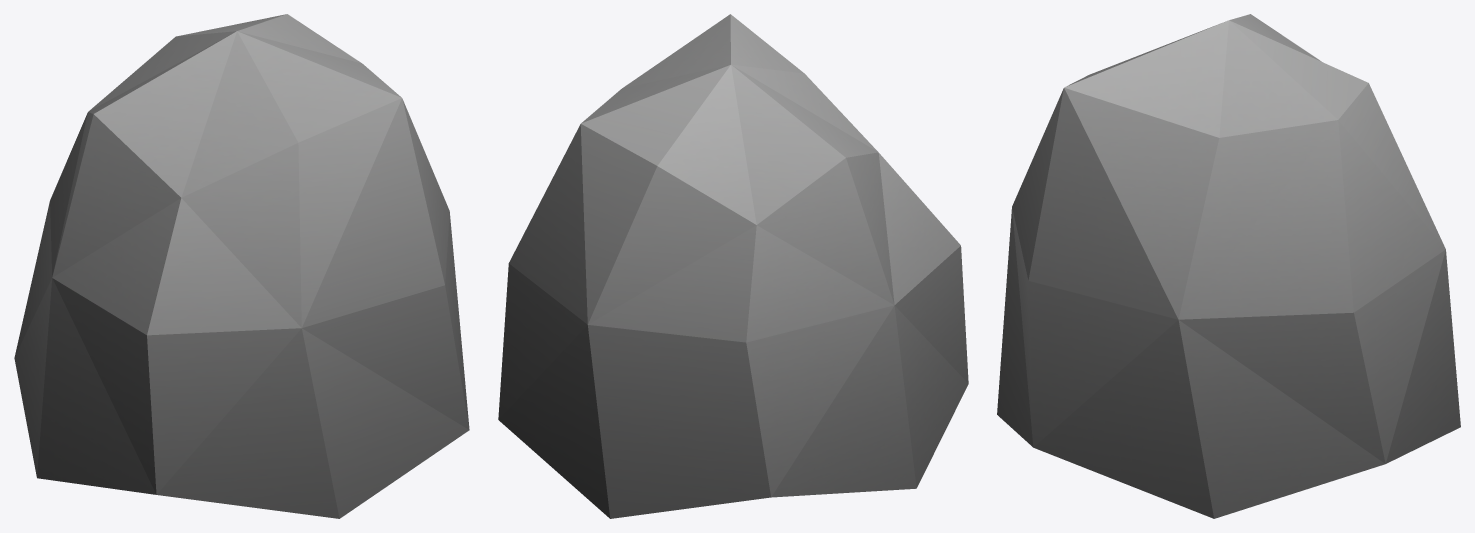
Rendered from Stone.fbx.
3 views of the same model, side by side, from view 1: azimuth 30°, elevation 25°; view 2: azimuth 150°, elevation 25°; view 3: azimuth 270°, elevation 25° (orthographic). The views are drawn at different scales.
Parts seen in each view (by area): view 1: Stone; view 2: Stone; view 3: Stone.
Part boxes in pixels (x1,y1,x2,y2): Stone: (14,14,469,518); Stone: (498,14,968,518); Stone: (997,14,1460,518).
Size of the model in its own units: 331 by 357 by 333.
1 material, 1 textured.
